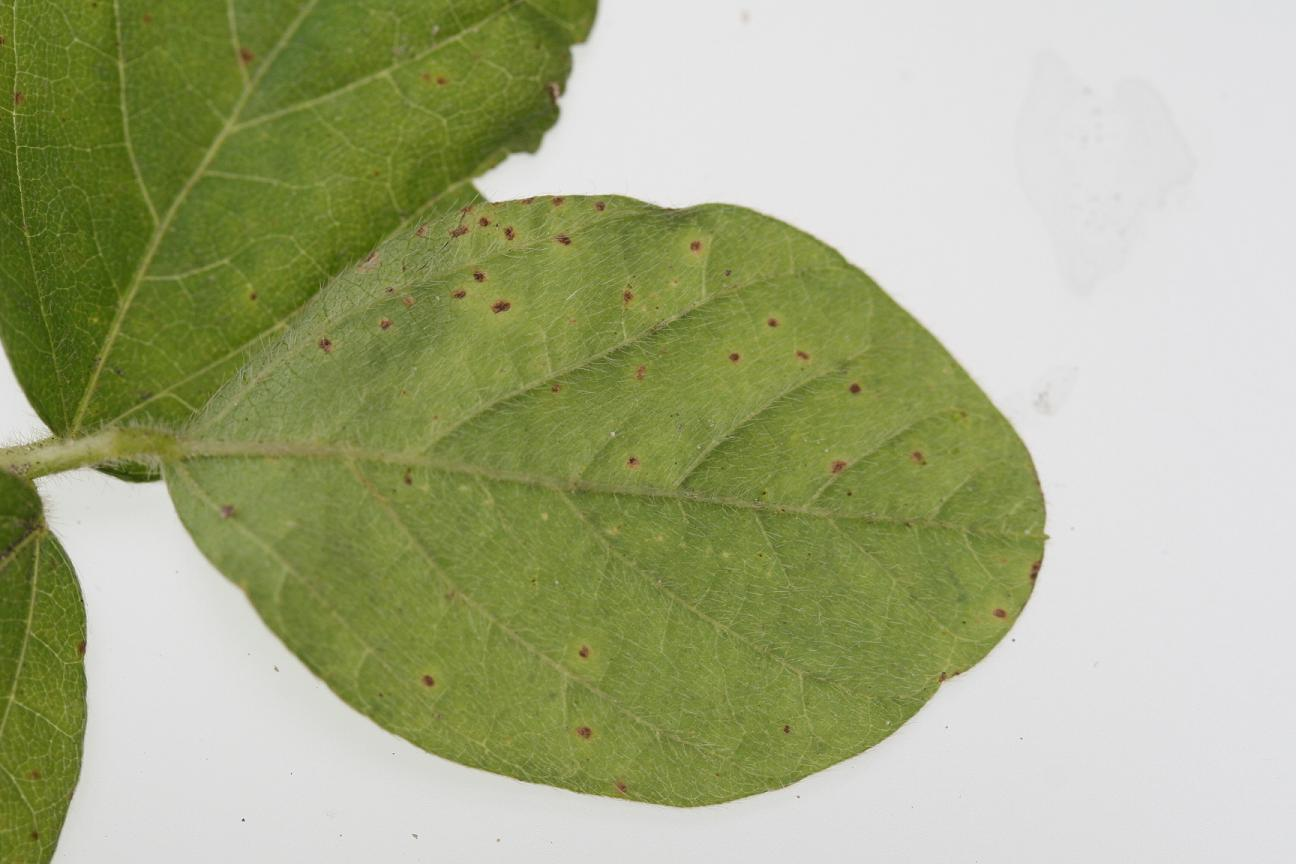Soyabean leaf: (154, 188, 1049, 810)
